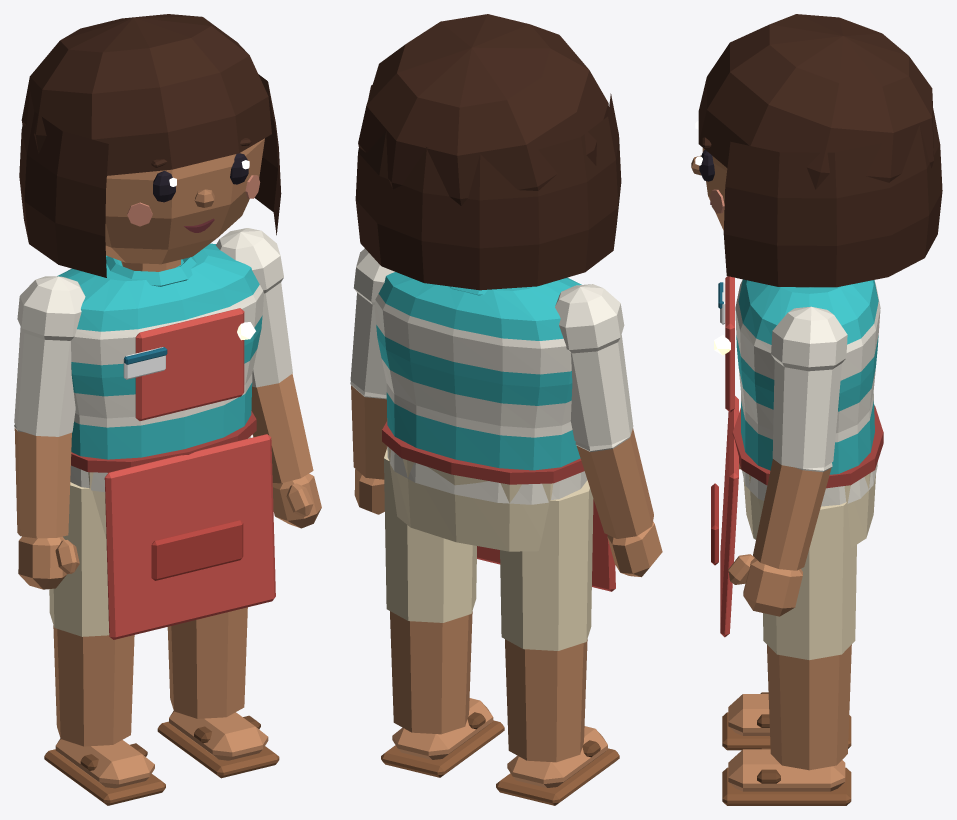
File: kas_pel.glb
The picture shows the model from 3 angles, left to right: view 1: azimuth 30°, elevation 25°; view 2: azimuth 150°, elevation 25°; view 3: azimuth 270°, elevation 25°; orthographic projection.
Parts seen in each view (by area): view 1: haare, schürze, torso, arm_r, bein_r, kopf, arm_l, bein_l, schuh_l, schuh_r, hand_r, gesicht (+3 smaller); view 2: haare, torso, bein_r, bein_l, arm_r, becken, arm_l, schürze, schuh_l, schuh_r, hand_r, hand_l; view 3: haare, bein_l, arm_l, torso, schürze, schuh_l, hand_l, schuh_r, becken, gesicht, kopf.
Part boxes in pixels (box(x1,y1,x2,y2)): haare: box(19, 14, 281, 277); schürze: box(71, 308, 275, 639); torso: box(57, 243, 263, 492); arm_r: box(14, 276, 85, 538); bein_r: box(49, 482, 134, 746); kopf: box(105, 138, 264, 264); arm_l: box(215, 228, 313, 483); bein_l: box(167, 436, 251, 718); schuh_l: box(157, 711, 279, 778); schuh_r: box(44, 738, 165, 805); hand_r: box(18, 536, 79, 589); gesicht: box(127, 138, 260, 232); haare: box(355, 14, 621, 290); torso: box(374, 272, 587, 504); bein_r: box(500, 480, 593, 762); bein_l: box(384, 448, 476, 734); arm_r: box(555, 284, 653, 538); becken: box(388, 447, 553, 551); arm_l: box(350, 248, 394, 479); schürze: box(382, 421, 615, 591); schuh_l: box(381, 698, 504, 777); schuh_r: box(496, 726, 619, 805); hand_r: box(607, 521, 662, 577); hand_l: box(354, 469, 384, 514); haare: box(698, 14, 942, 287); bein_l: box(763, 502, 856, 770); arm_l: box(753, 306, 847, 570); torso: box(735, 279, 880, 506); schürze: box(711, 276, 883, 637); schuh_l: box(722, 748, 851, 805); hand_l: box(728, 554, 802, 616); schuh_r: box(722, 692, 851, 750); becken: box(743, 473, 875, 548); gesicht: box(691, 121, 724, 213); kopf: box(702, 148, 727, 230).
Bounding box in the file's own units: 0.0103 × 0.0245 × 0.00763.
